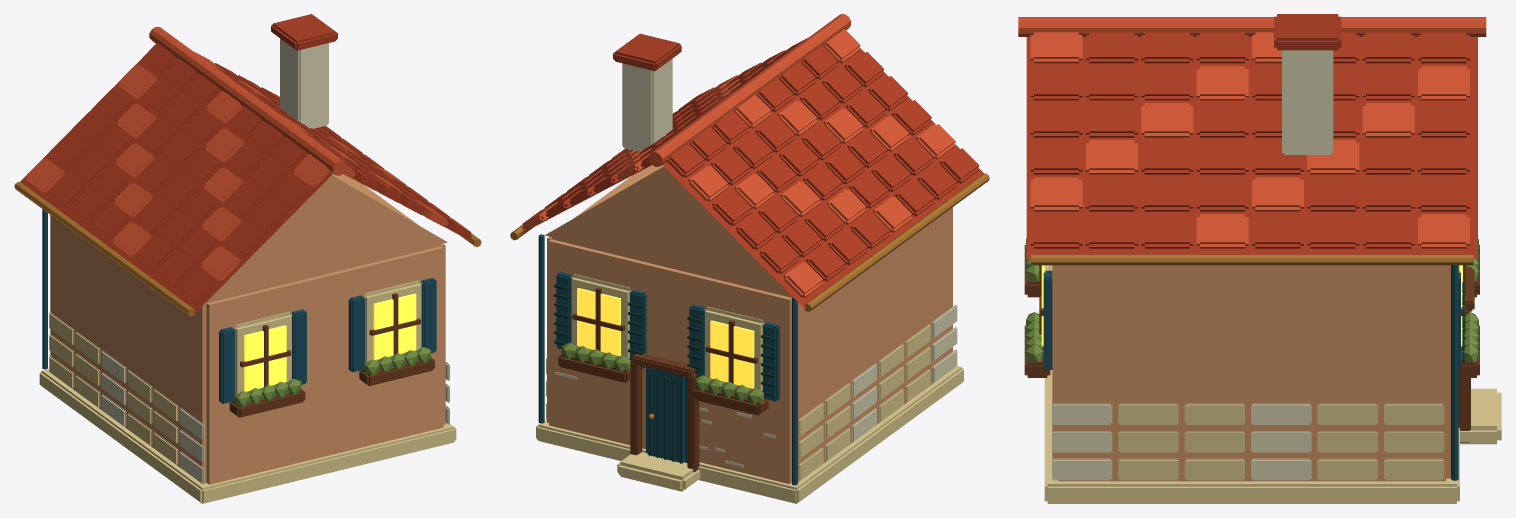
The model's file is house_0.glb.
The picture shows the model from 3 angles, left to right: view 1: azimuth 30°, elevation 25°; view 2: azimuth 150°, elevation 25°; view 3: azimuth 270°, elevation 25°; orthographic projection. The views are drawn at different scales.
Visible parts, largest first — view 1: HouseMesh; view 2: HouseMesh; view 3: HouseMesh.
Boxes of the visible parts, x1,y1,x2,y2 form: HouseMesh: (14, 14, 481, 503); HouseMesh: (510, 14, 989, 503); HouseMesh: (1018, 14, 1501, 503).
Size of the model in its own units: 5.07 by 5.81 by 5.68.
